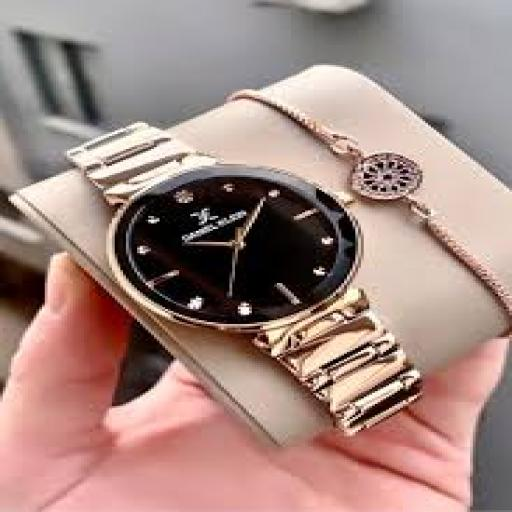KolSaati: (42, 100, 439, 470)
